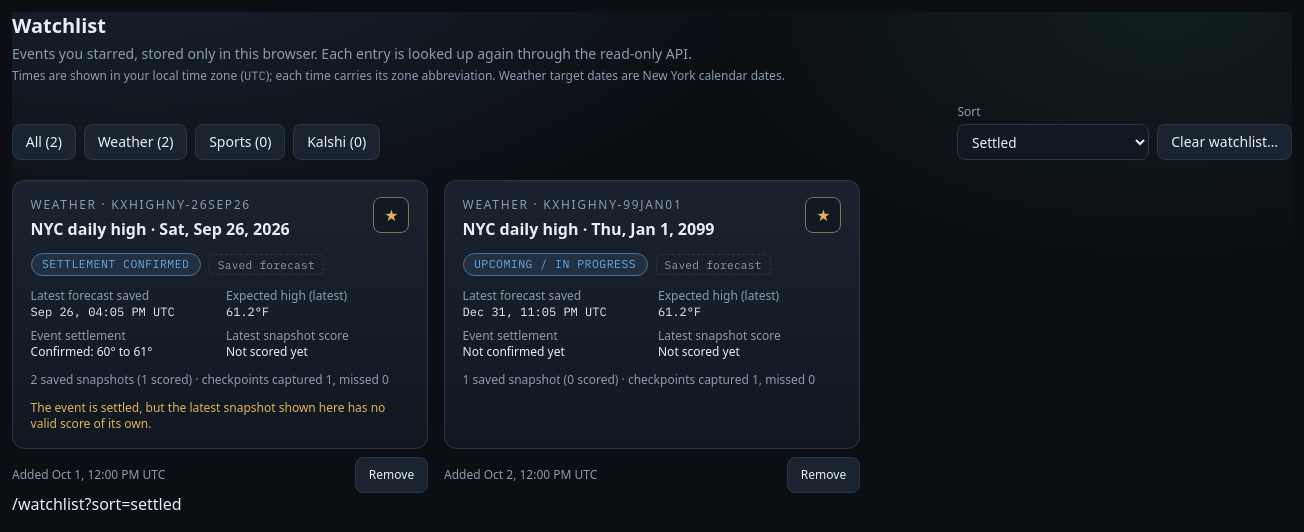
Test case: Watchlist page › sorts by settlement from the URL and keeps category when the sort changes
Step 1. Select "Recently added" in the dropdown labelled "Sort" → (1053, 142), box [957,124,1149,160]
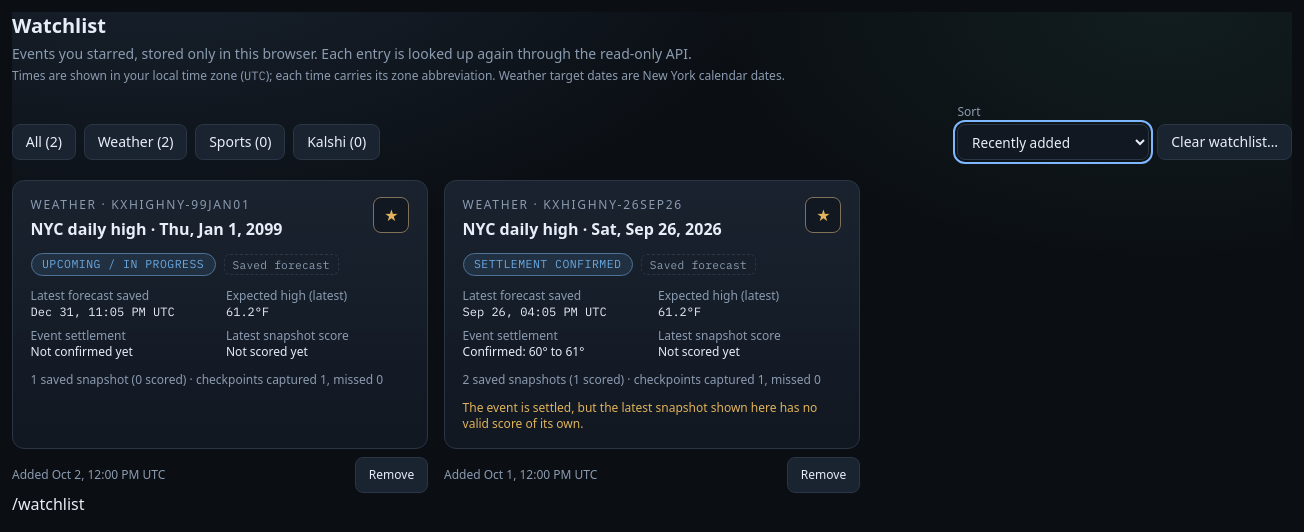
Check: the text with test id "location" reads "/watchlist", box [12,494,84,516]
Check: the text with test id "location" no longer shows "sort="
Step 2. Select "Settled" in the dropdown labelled "Sort" → (1053, 142), box [957,124,1149,160]
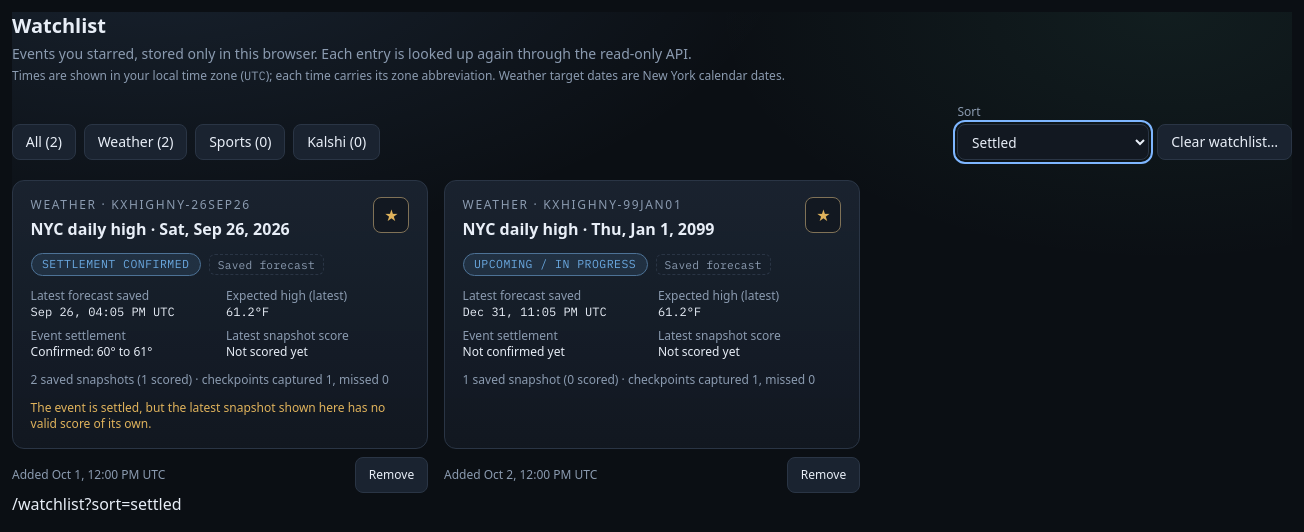
Step 3. Click the button "Weather (2)" → (136, 142), box [84,124,187,160]
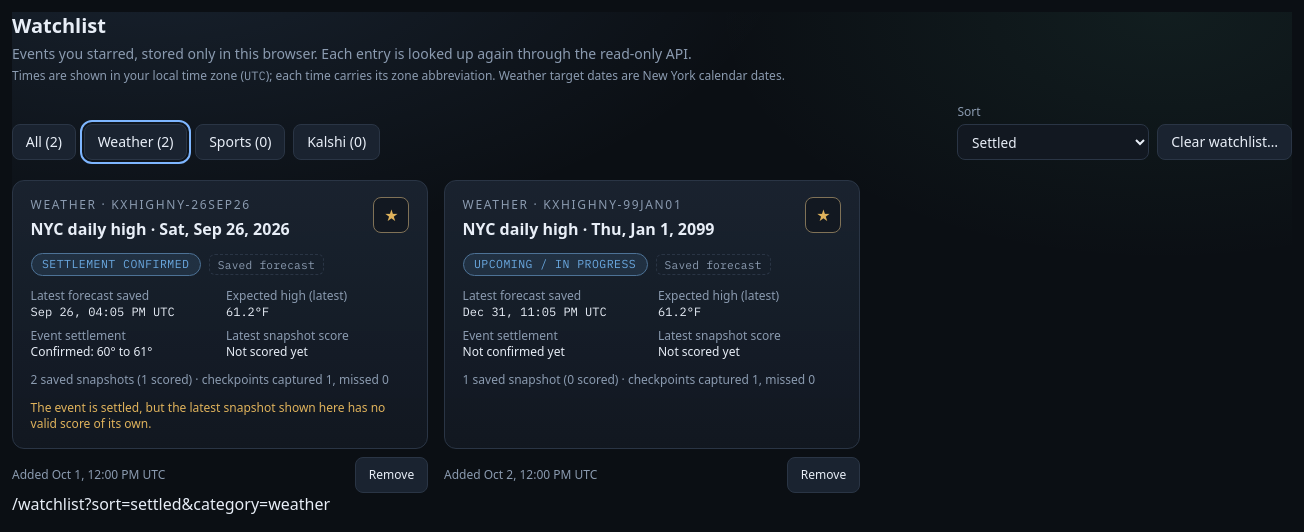
Check: the text with test id "location" shows "sort=settled", box [12,494,330,516]
Check: the text with test id "location" shows "category=weather", box [12,494,330,516]
